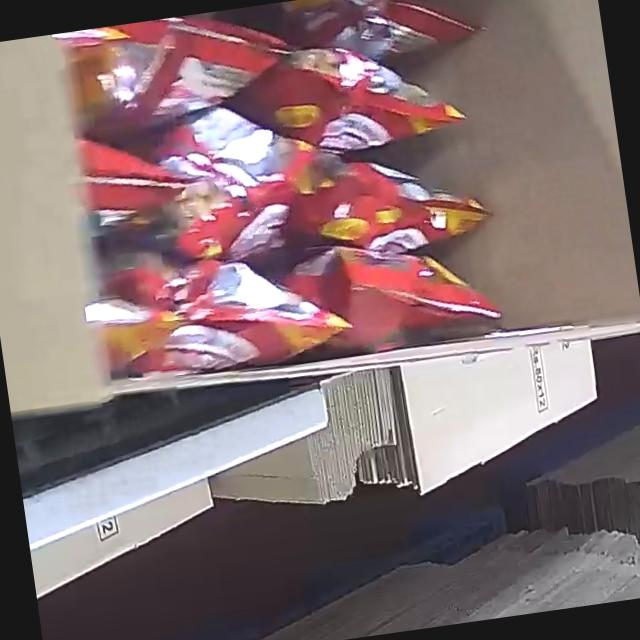masala: (50, 0, 527, 393)
